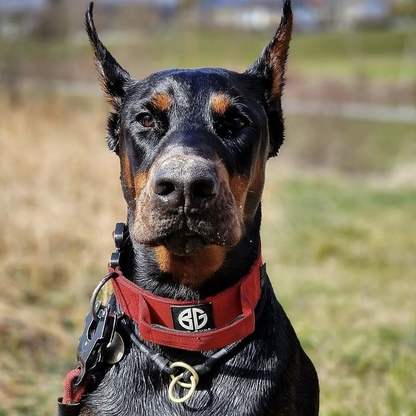doberman: (65, 11, 334, 413)
